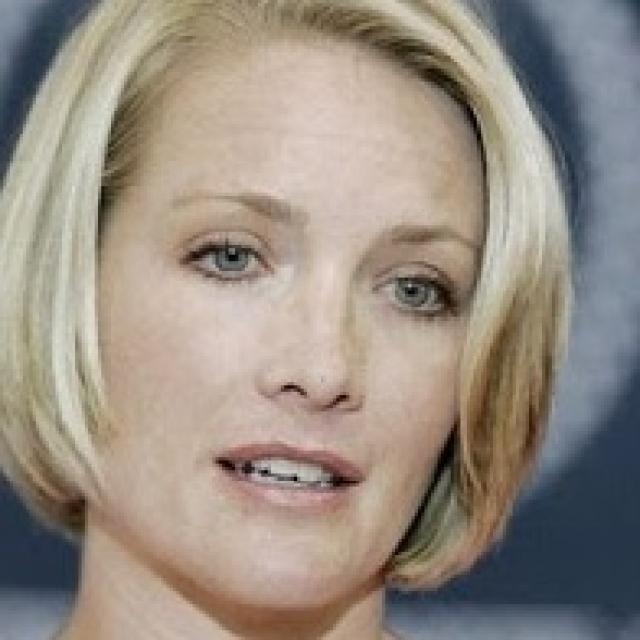Depress: (75, 23, 496, 609)
